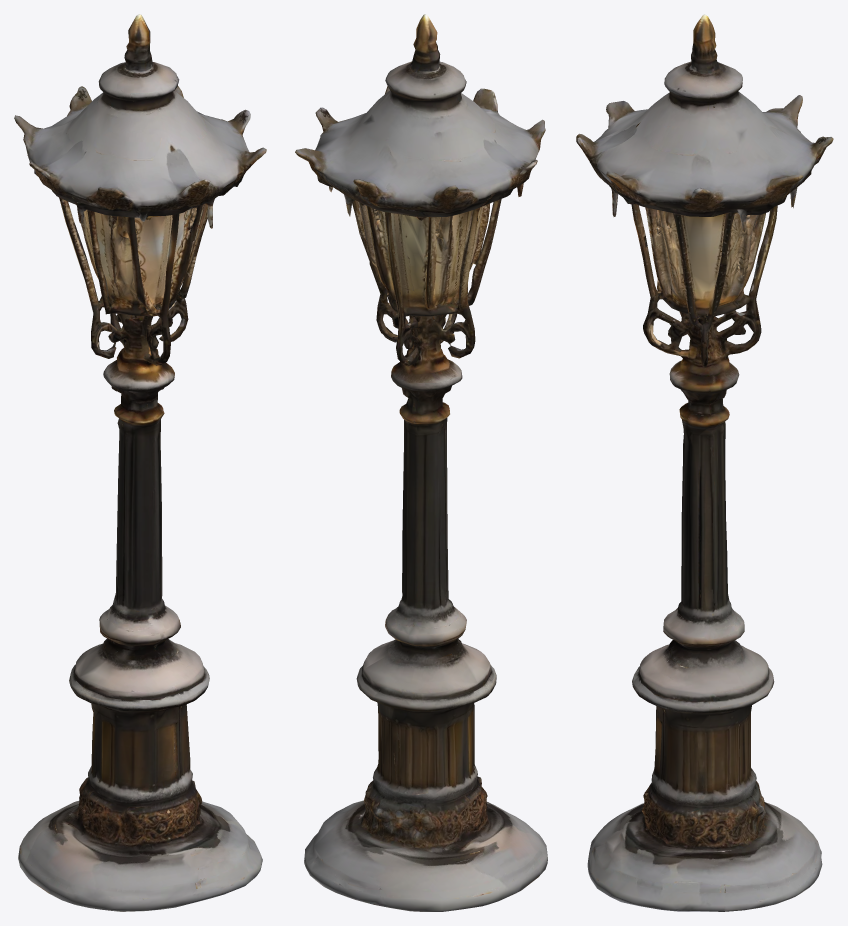
File: lamp-vintage.glb
3 renders of one model, left to right at view 1: azimuth 30°, elevation 25°; view 2: azimuth 150°, elevation 25°; view 3: azimuth 270°, elevation 25°, orthographic.
Bounding box in the file's own units: 0.5401 × 2 × 0.5474.
1 material, 1 textured.
